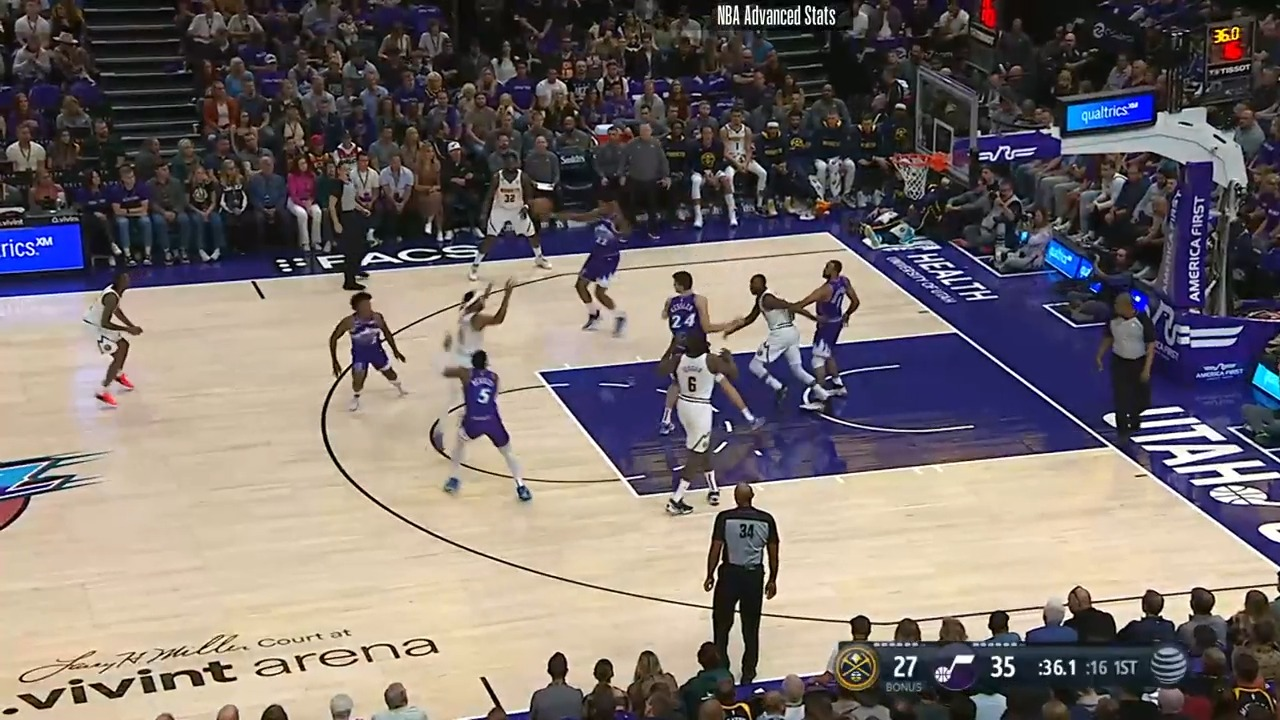net: (893, 148, 948, 196)
player: (654, 271, 765, 436), (659, 329, 751, 516), (431, 345, 526, 505), (713, 271, 821, 408), (332, 293, 416, 418), (800, 257, 866, 409), (466, 154, 542, 281), (569, 193, 633, 339), (90, 268, 149, 416), (434, 277, 512, 381)
referee: (702, 483, 785, 683), (1094, 296, 1157, 445), (324, 160, 373, 295)
